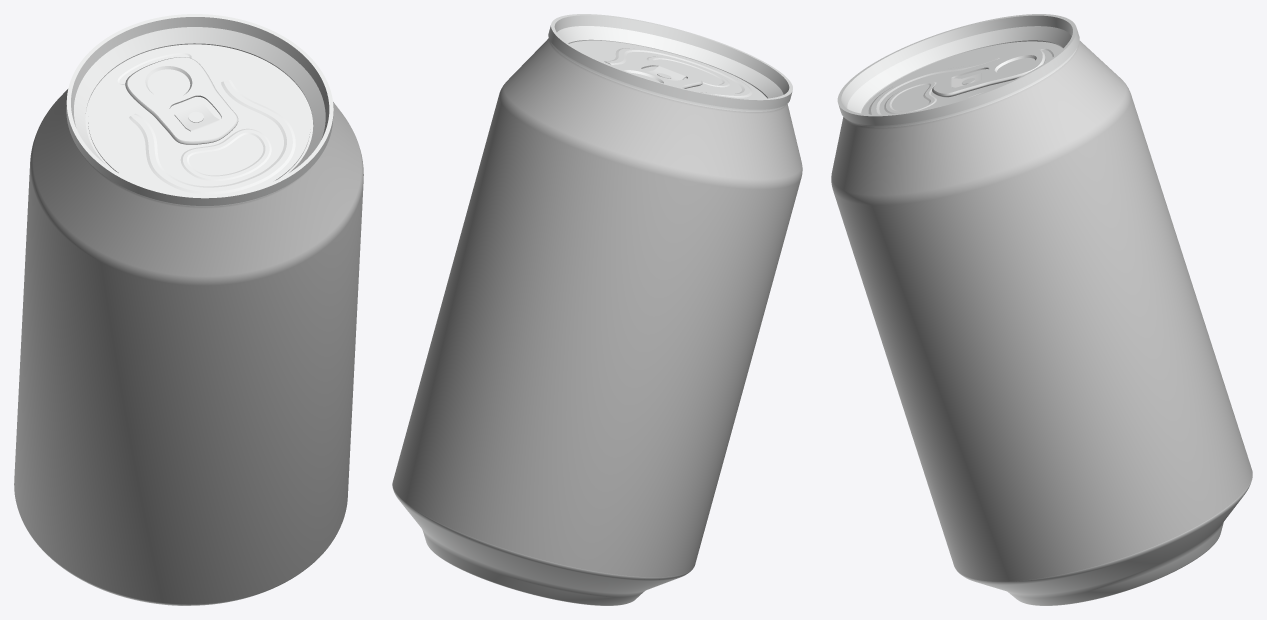
File: freshup.glb
3 views of the same model, side by side, from view 1: azimuth 30°, elevation 25°; view 2: azimuth 150°, elevation 25°; view 3: azimuth 270°, elevation 25° (orthographic). The views are drawn at different scales.
Parts seen in each view (by area): view 1: drink; view 2: drink; view 3: drink.
Boxes of the visible parts, x1,y1,x2,y2 form: drink: (14, 14, 363, 605); drink: (392, 14, 802, 605); drink: (831, 14, 1252, 605).
Bounding box in the file's own units: 0.077 × 0.125 × 0.0892.
2 materials, 1 textured.
